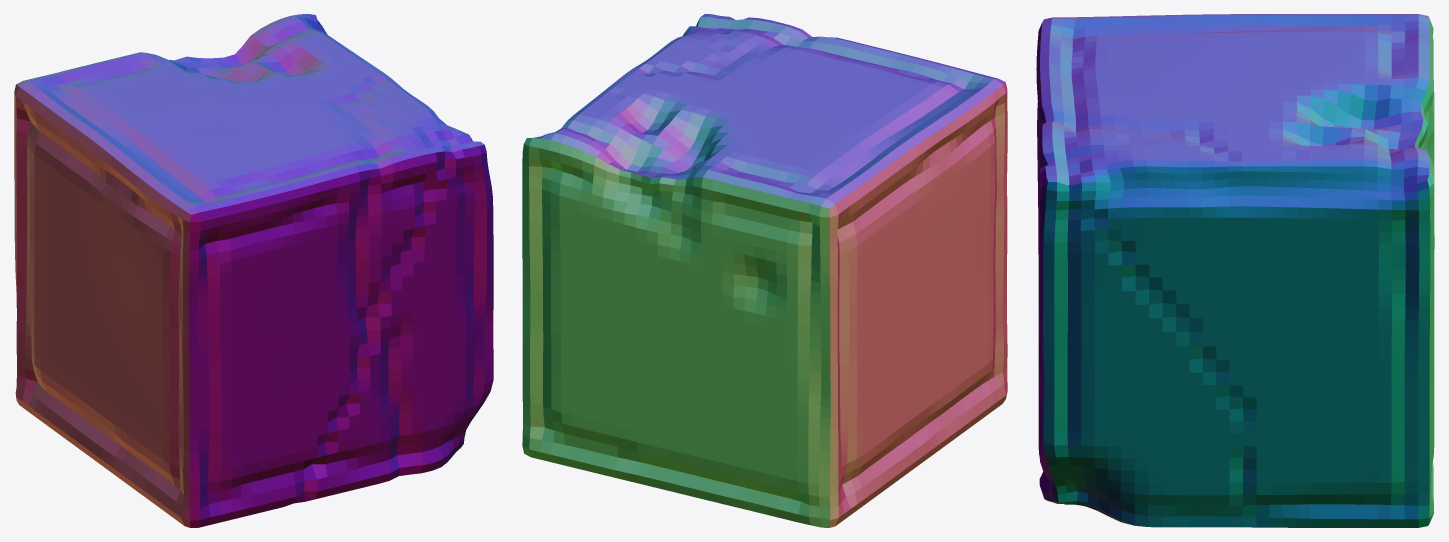
File: pillar.fbx
3 renders of one model, left to right at view 1: azimuth 30°, elevation 25°; view 2: azimuth 150°, elevation 25°; view 3: azimuth 270°, elevation 25°, orthographic. The views are drawn at different scales.
Visible parts, largest first — view 1: Pillar; view 2: Pillar; view 3: Pillar.
Part boxes in pixels (x1,y1,x2,y2): Pillar: [14, 14, 493, 527]; Pillar: [522, 14, 1007, 527]; Pillar: [1036, 14, 1434, 527].
Bounding box in the file's own units: 201 × 200 × 201.
